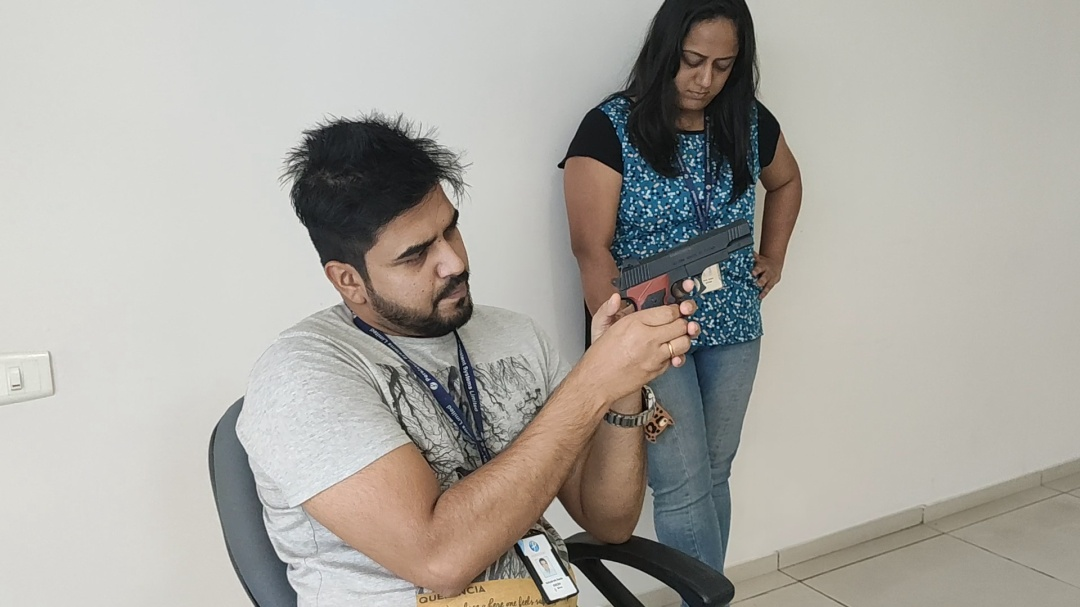gun: (611, 219, 756, 310)
